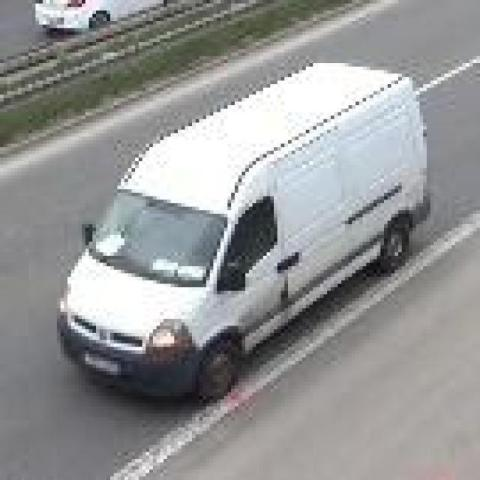van: (57, 65, 430, 398)
